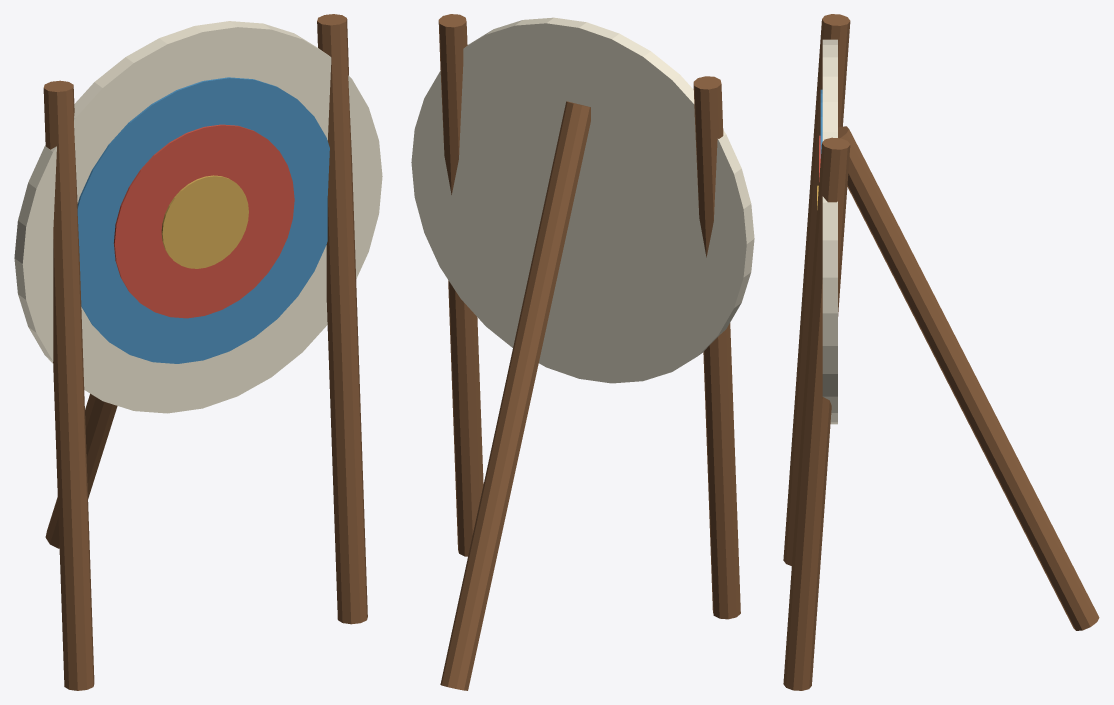
The model's file is Archery_Target.glb.
3 renders of one model, left to right at view 1: azimuth 30°, elevation 25°; view 2: azimuth 150°, elevation 25°; view 3: azimuth 270°, elevation 25°, orthographic. The views are drawn at different scales.
Visible parts, largest first — view 1: Archery_Target; view 2: Archery_Target; view 3: Archery_Target.
Part boxes in pixels (x1,y1,x2,y2): Archery_Target: [14, 14, 382, 690]; Archery_Target: [411, 14, 754, 690]; Archery_Target: [783, 14, 1099, 690].
Size of the model in its own units: 1 by 1.64 by 0.8205.
